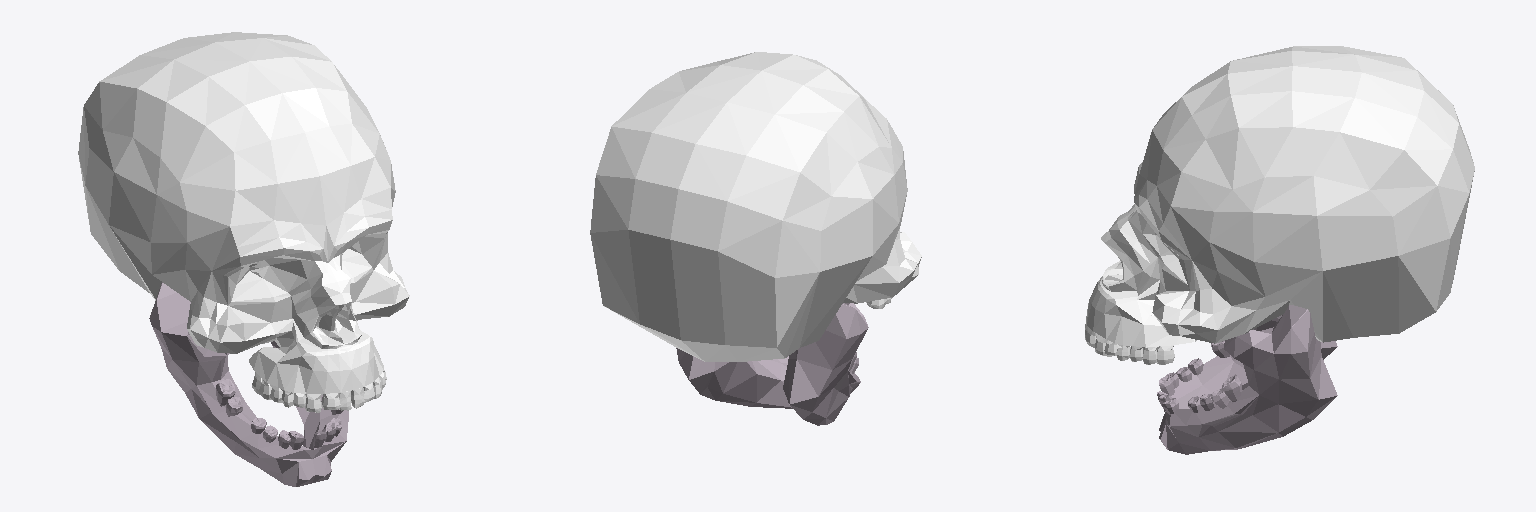
Rendered from GenerateurBille.obj.
The picture shows the model from 3 angles: view 1: azimuth 30°, elevation 25°; view 2: azimuth 150°, elevation 25°; view 3: azimuth 270°, elevation 25°; orthographic projection.
Parts seen in each view (by area): view 1: Lebka01, Spodni_celist_01; view 2: Lebka01, Spodni_celist_01; view 3: Lebka01, Spodni_celist_01.
Part boxes in pixels (bbox=[...]): Lebka01: bbox=[78, 32, 409, 412]; Spodni_celist_01: bbox=[149, 282, 348, 486]; Lebka01: bbox=[590, 52, 921, 361]; Spodni_celist_01: bbox=[676, 303, 868, 425]; Lebka01: bbox=[1085, 46, 1474, 364]; Spodni_celist_01: bbox=[1157, 305, 1337, 454].
Size of the model in its own units: 54.35 by 78.37 by 72.99.